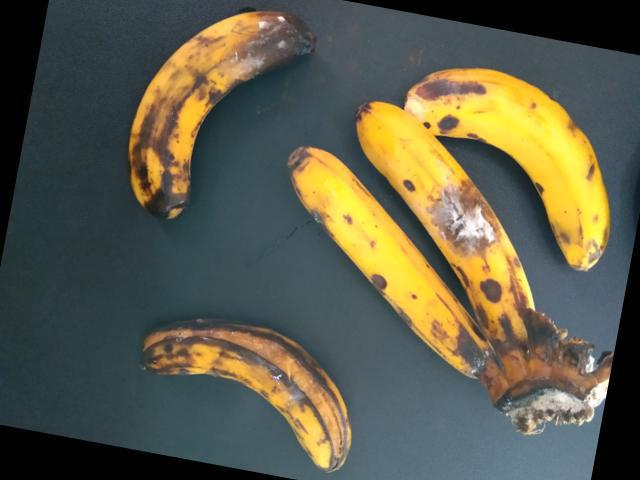overripe: (408, 44, 607, 268), (290, 140, 487, 363), (359, 87, 518, 340)
rotten: (117, 0, 313, 226), (138, 302, 361, 479)
